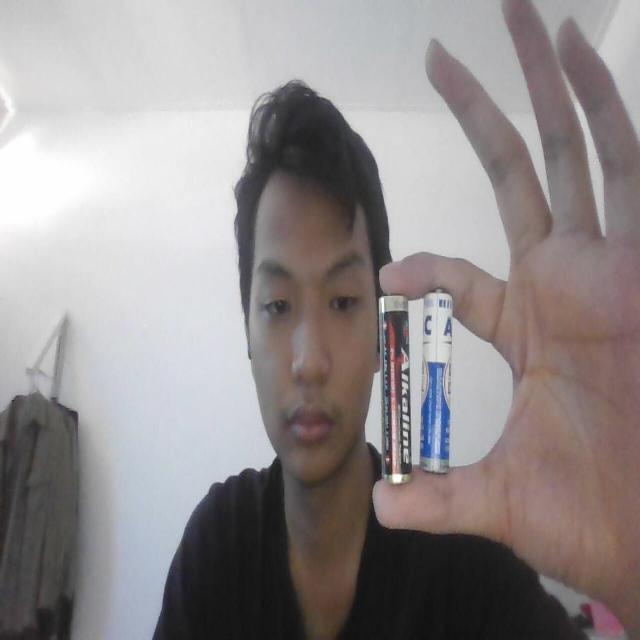Hazard: (418, 287, 456, 477), (378, 295, 414, 485)
